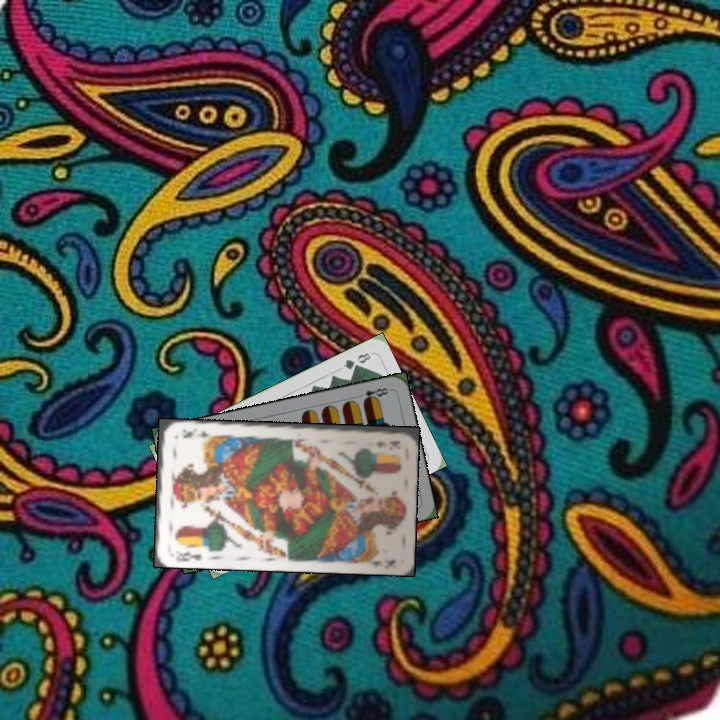E8: (353, 384, 393, 405)
EK: (173, 547, 204, 563), (371, 436, 402, 450)
G8: (339, 349, 373, 372)
